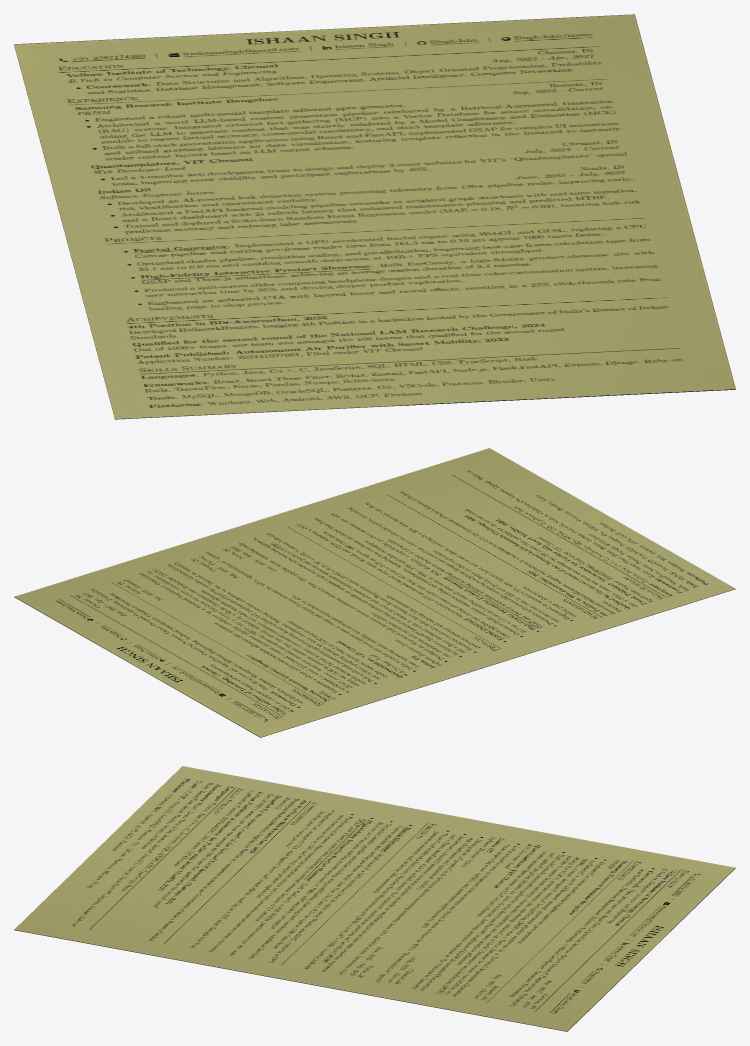
Rendered from resume.glb.
The picture shows the model from 3 angles, top to bottom: view 1: azimuth 30°, elevation 25°; view 2: azimuth 150°, elevation 25°; view 3: azimuth 270°, elevation 25°; orthographic projection. The views are drawn at different scales.
Visible parts, largest first — view 1: Resume; view 2: Resume; view 3: Resume.
Boxes of the visible parts, x1,y1,x2,y2 form: Resume: [14, 14, 735, 419]; Resume: [14, 448, 735, 737]; Resume: [14, 766, 735, 1031].
Bounding box in the file's own units: 0.3122 × 0.0002 × 0.3589.
1 material, 1 textured.
